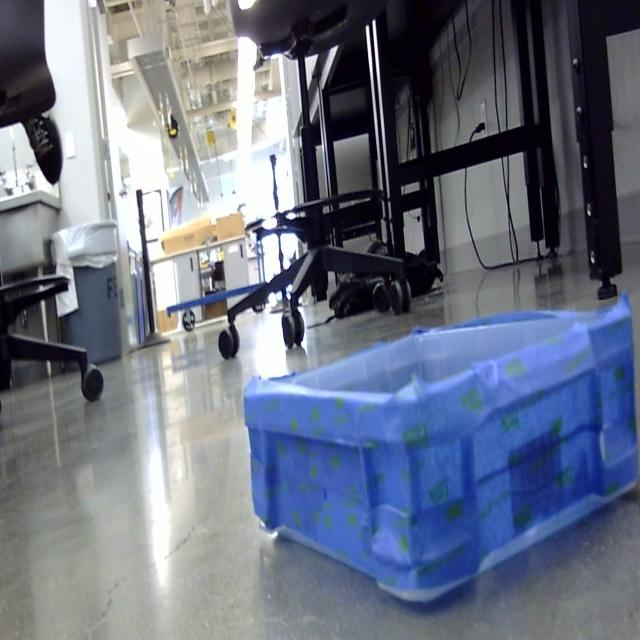bucket: (242, 293, 640, 607)
